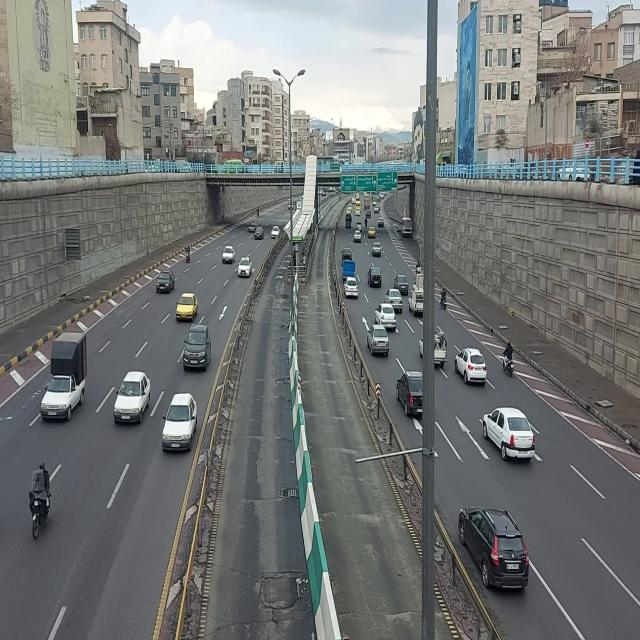Car: (456, 494, 532, 598), (482, 403, 538, 466), (160, 391, 199, 458), (114, 368, 154, 429), (181, 320, 213, 380), (454, 342, 490, 390), (395, 361, 425, 417), (366, 324, 390, 358), (176, 290, 198, 322), (374, 302, 398, 330), (156, 270, 176, 295), (343, 275, 359, 301), (367, 266, 383, 289), (238, 256, 253, 279), (384, 288, 402, 307), (222, 245, 236, 265), (394, 274, 409, 292), (371, 240, 383, 258), (270, 224, 280, 242), (254, 226, 264, 242), (354, 228, 363, 244), (248, 219, 257, 234), (368, 226, 376, 239), (377, 216, 385, 229), (374, 206, 380, 217)
Motorcycle: (26, 456, 55, 549), (502, 338, 516, 378), (439, 285, 448, 312), (184, 242, 192, 265), (414, 259, 420, 275), (256, 205, 261, 219), (364, 216, 369, 229)
Pickup: (41, 324, 90, 423), (408, 288, 424, 316), (341, 259, 356, 282)
